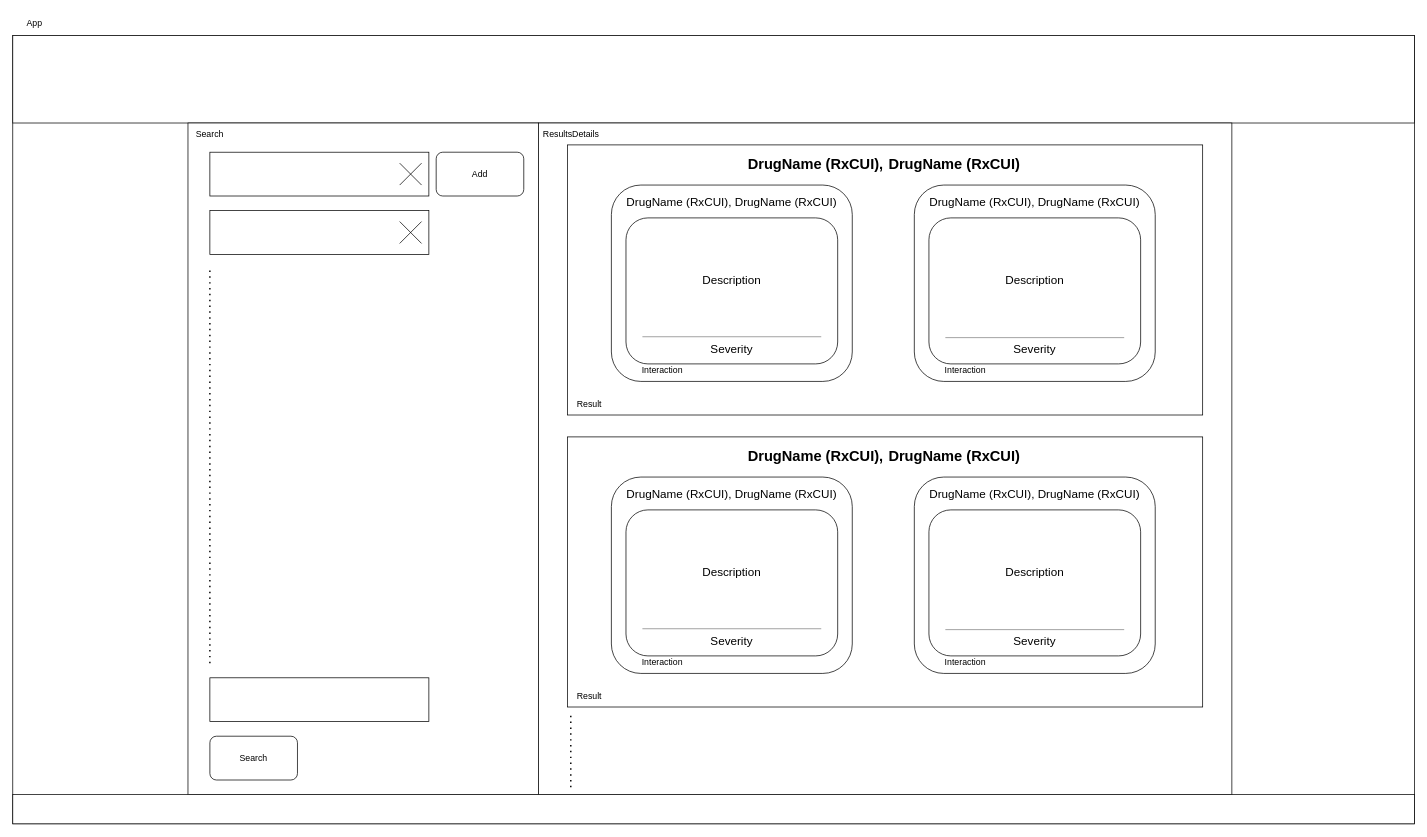
This 1427x837 diagram has some shape labels left out. The shapes that lost their labels are listed below. From the top down, each one's centre as x and y in pixels, then its label:
At pixel 713 79: "Header".
At pixel 713 809: "Footer".
